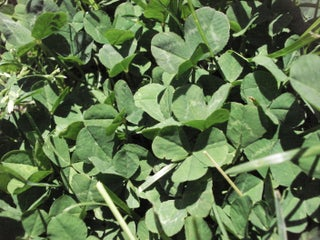clover: (151, 123, 229, 183)
